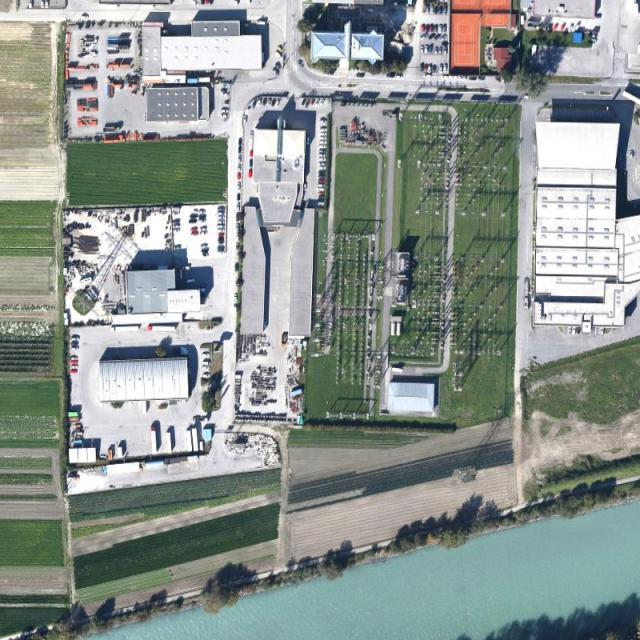vehicle: (165, 432, 173, 454), (186, 429, 192, 453), (151, 427, 156, 452), (274, 49, 282, 59), (390, 367, 403, 373), (68, 412, 80, 418), (434, 33, 442, 41), (298, 60, 305, 69), (441, 34, 448, 42), (315, 98, 322, 106), (428, 32, 436, 39), (319, 98, 326, 106), (422, 73, 433, 78), (552, 23, 558, 32), (71, 337, 81, 342), (306, 99, 312, 107), (272, 98, 278, 106), (560, 23, 566, 31), (420, 62, 426, 70), (28, 1, 34, 9), (310, 98, 316, 106), (201, 243, 209, 249), (428, 64, 433, 73), (189, 219, 198, 224), (630, 150, 634, 161), (424, 63, 430, 70), (421, 34, 428, 40), (187, 278, 194, 284), (218, 206, 226, 211), (252, 101, 257, 109), (263, 98, 268, 106), (435, 46, 439, 56), (302, 98, 307, 106), (70, 361, 78, 366), (218, 211, 226, 216), (459, 75, 467, 80), (318, 183, 326, 188), (444, 65, 448, 74), (439, 64, 443, 73), (433, 64, 437, 73), (70, 342, 79, 346), (190, 214, 199, 218), (199, 227, 208, 231), (217, 234, 226, 238), (235, 233, 239, 242), (394, 74, 403, 78), (250, 130, 254, 139), (318, 145, 327, 149), (421, 25, 426, 32), (425, 6, 430, 13), (71, 369, 78, 374), (199, 288, 206, 293), (268, 98, 273, 105), (429, 46, 434, 53), (439, 26, 443, 34), (430, 5, 434, 13), (258, 21, 266, 25), (218, 226, 226, 230), (238, 146, 242, 154), (238, 155, 242, 163), (218, 246, 226, 250), (70, 356, 78, 360), (202, 352, 210, 356), (202, 362, 210, 366), (42, 1, 46, 9), (258, 98, 262, 106), (438, 46, 442, 54), (318, 154, 326, 158), (236, 214, 240, 222), (202, 374, 210, 378), (202, 366, 210, 370), (174, 246, 182, 250), (217, 230, 225, 234), (306, 137, 310, 145), (303, 182, 307, 190), (319, 132, 327, 136), (318, 149, 326, 153), (273, 68, 278, 74), (71, 348, 81, 351), (249, 168, 252, 178), (524, 95, 531, 99), (424, 46, 428, 53), (218, 251, 225, 255), (238, 138, 242, 145), (201, 231, 208, 235), (318, 170, 325, 174), (319, 158, 326, 162), (573, 327, 577, 334), (578, 327, 582, 334), (238, 164, 242, 171), (237, 193, 241, 200), (236, 224, 240, 231), (569, 326, 573, 333), (183, 266, 190, 270), (173, 206, 180, 210), (191, 227, 198, 231), (199, 218, 206, 222), (173, 229, 180, 233), (445, 47, 448, 56), (444, 25, 447, 34), (171, 222, 180, 225), (430, 25, 434, 31), (434, 26, 438, 32), (200, 214, 206, 218), (218, 240, 224, 244), (218, 216, 226, 219), (71, 366, 79, 369), (250, 149, 253, 157), (318, 202, 324, 206), (319, 198, 325, 202), (318, 167, 326, 170), (321, 128, 327, 132), (243, 116, 247, 122), (601, 328, 605, 334), (570, 26, 574, 32), (320, 120, 328, 123), (238, 183, 242, 189), (319, 141, 327, 144), (440, 7, 443, 14), (421, 46, 424, 53), (222, 93, 229, 96), (218, 221, 225, 224), (199, 210, 206, 213), (173, 225, 180, 228), (202, 253, 209, 256), (250, 159, 253, 166), (317, 188, 324, 191), (319, 175, 326, 178), (238, 173, 241, 180), (237, 203, 240, 210), (319, 137, 326, 140), (193, 231, 198, 235), (426, 25, 429, 31), (222, 115, 228, 118), (218, 237, 224, 240), (174, 212, 180, 215), (236, 243, 238, 251), (194, 1, 197, 6), (222, 110, 229, 112), (202, 250, 208, 252), (235, 1, 238, 5), (205, 1, 209, 4), (247, 1, 252, 3), (202, 1, 205, 4), (210, 1, 213, 4), (441, 1, 444, 2)
